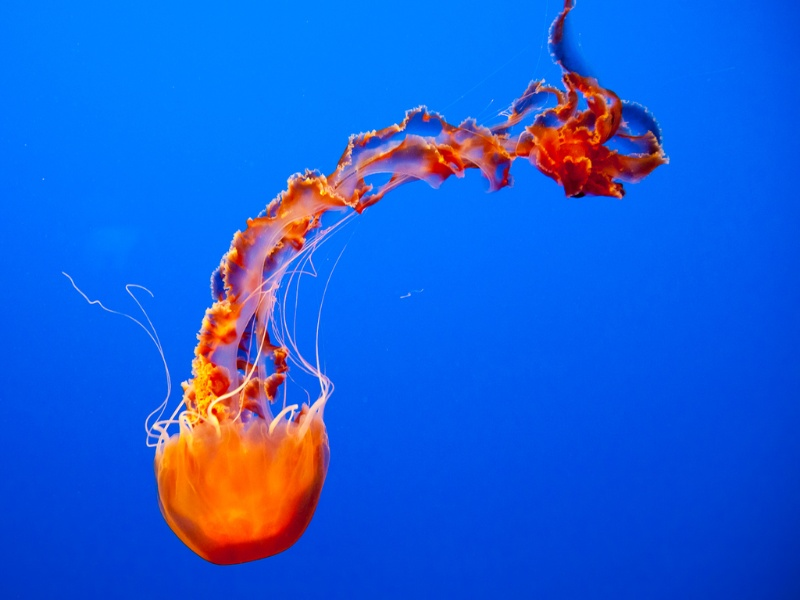Jellyfish: (138, 21, 652, 557)
